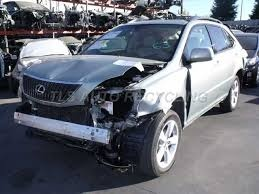Broken-glass: (94, 87, 146, 123)
Smashed: (70, 67, 160, 152)
